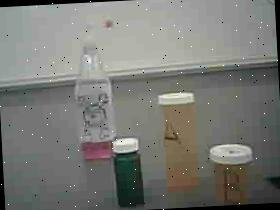Bottle A: (156, 90, 203, 194)
Bottle B: (207, 142, 256, 206)
Bottle C: (110, 136, 150, 208)
hazard: (67, 13, 120, 160)
